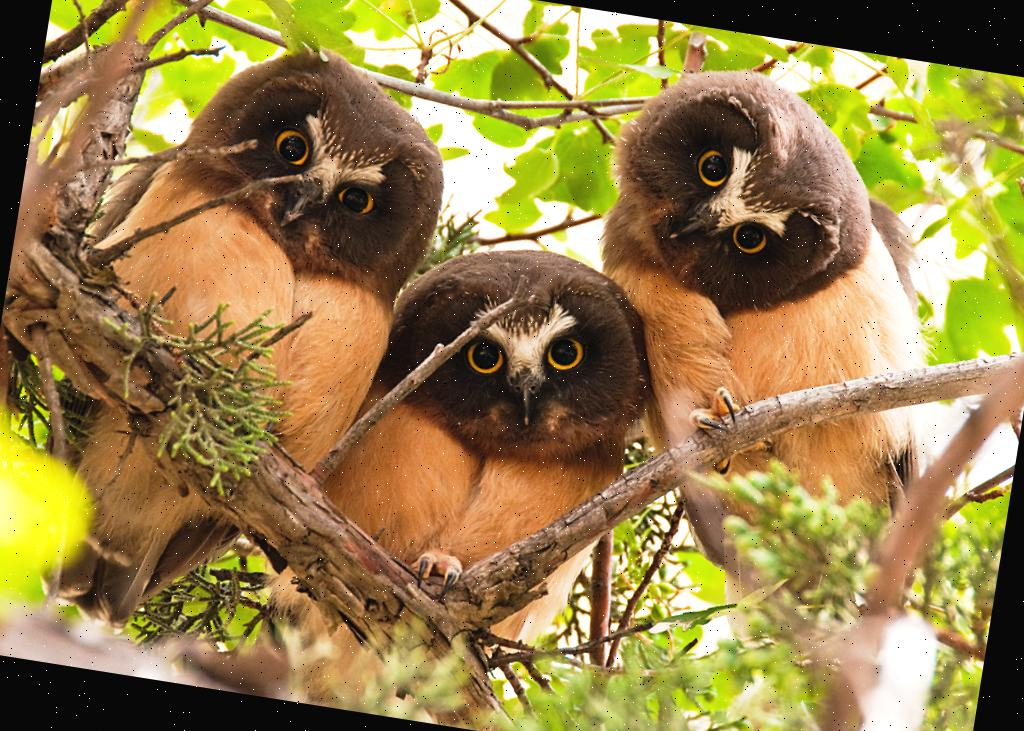Owl: (534, 29, 998, 682), (22, 17, 467, 680), (251, 212, 679, 731)
